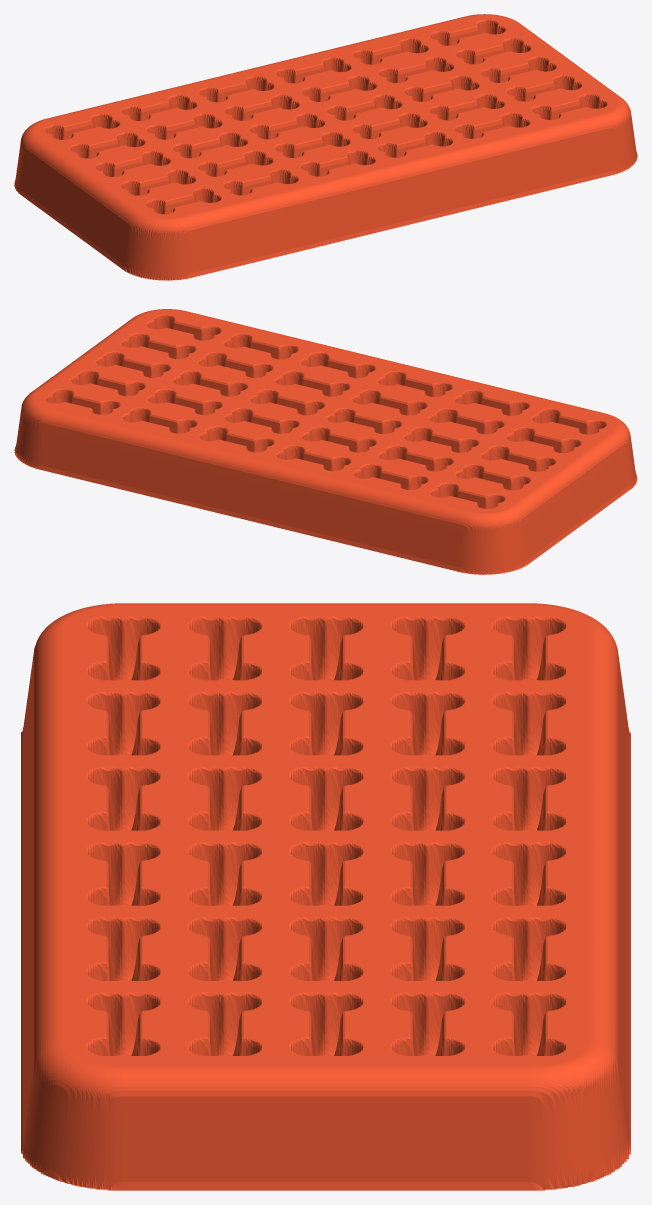
File: mold.glb
3 views of the same model, one above another, from view 1: azimuth 30°, elevation 25°; view 2: azimuth 150°, elevation 25°; view 3: azimuth 270°, elevation 25° (orthographic). The views are drawn at different scales.
Parts seen in each view (by area): view 1: geometry_0; view 2: geometry_0; view 3: geometry_0.
Part boxes in pixels (x1,y1,x2,y2): geometry_0: (14, 14, 637, 280); geometry_0: (14, 309, 637, 574); geometry_0: (21, 603, 630, 1190).
Size of the model in its own units: 0.104 by 0.0105 by 0.0542.
